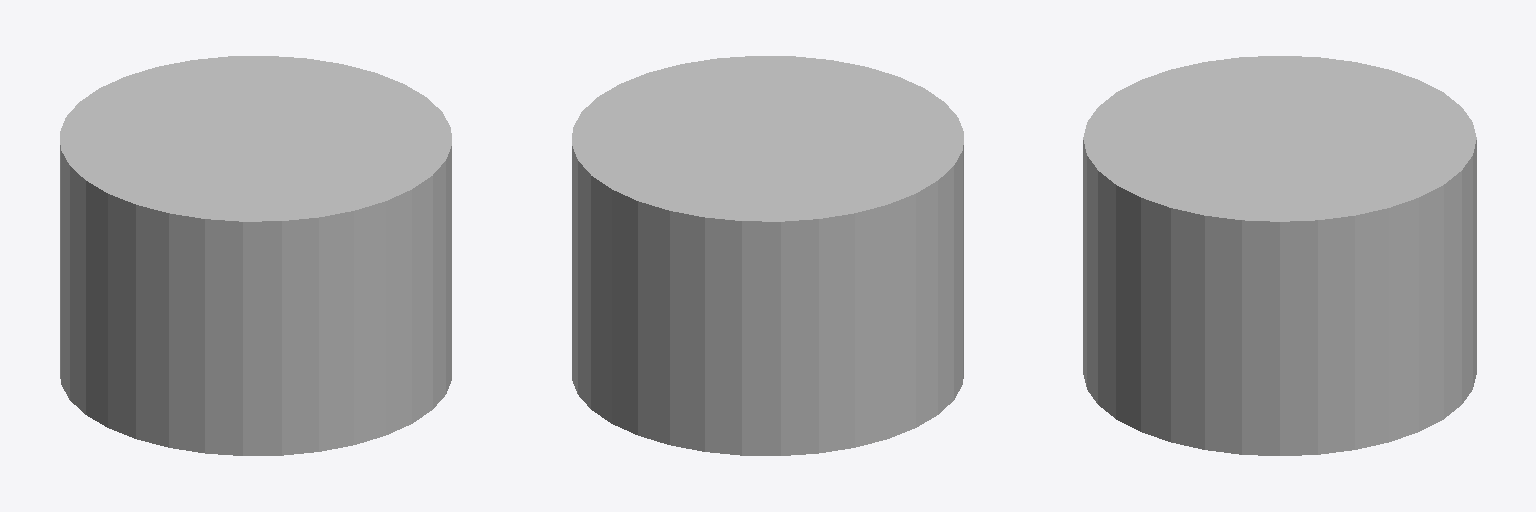
File: dot.obj
The picture shows the model from 3 angles: view 1: azimuth 30°, elevation 25°; view 2: azimuth 150°, elevation 25°; view 3: azimuth 270°, elevation 25°; orthographic projection.
Visible parts, largest first — view 1: Cylinder; view 2: Cylinder; view 3: Cylinder.
Part boxes in pixels (x1,y1,x2,y2): Cylinder: (60, 56, 451, 455); Cylinder: (572, 56, 963, 455); Cylinder: (1083, 56, 1476, 455).
Size of the model in its own units: 0.4056 by 0.2666 by 0.4056.